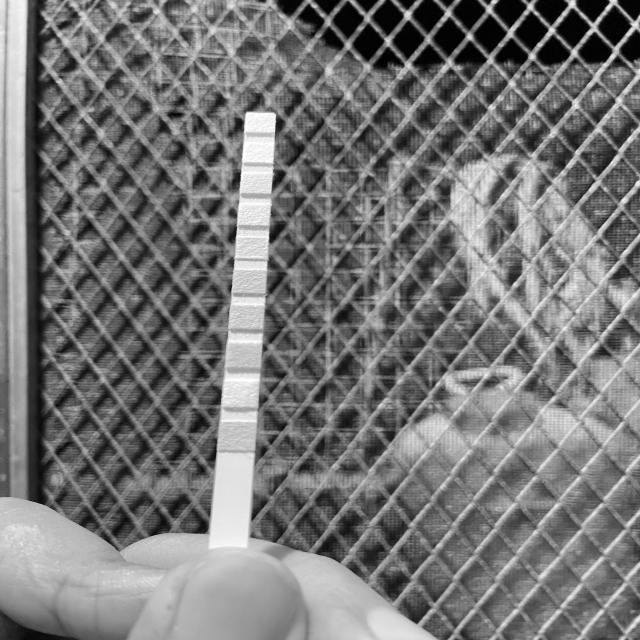Bilirubin: (223, 381, 257, 407)
Blood: (235, 271, 266, 293)
Glucose: (220, 422, 255, 451)
Ketone: (228, 343, 263, 367)
Leukocytes: (247, 115, 276, 133)
Nitrite: (245, 142, 274, 162)
Protein: (240, 205, 270, 225)
SpGravity: (232, 306, 262, 328)
Urobilinogen: (243, 174, 272, 193)
background: (0, 0, 640, 640)
pH: (236, 239, 266, 259)
strip: (210, 113, 276, 542)
